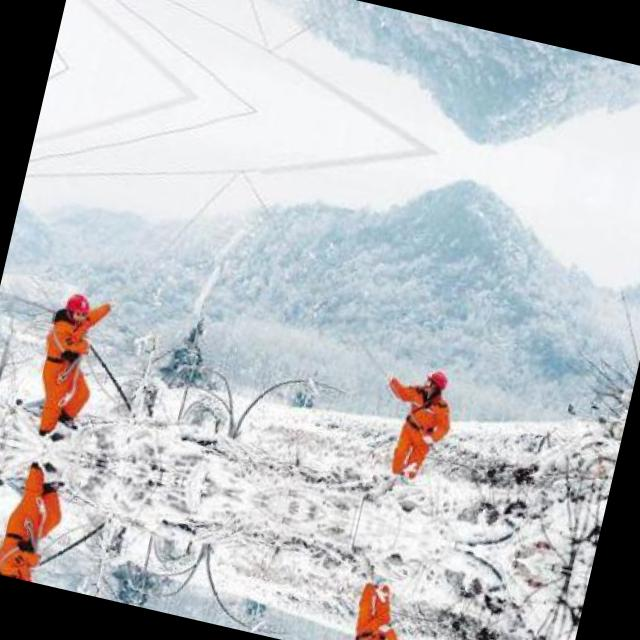helmet: (61, 290, 94, 322), (421, 364, 450, 396)
